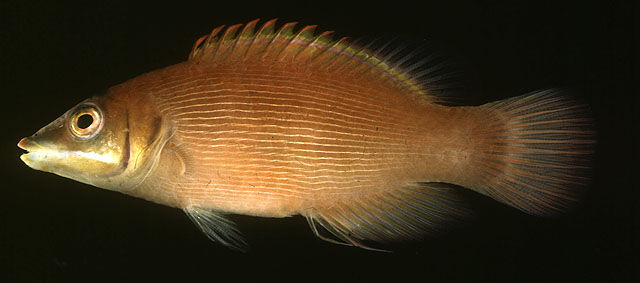fish: (17, 19, 594, 253)
